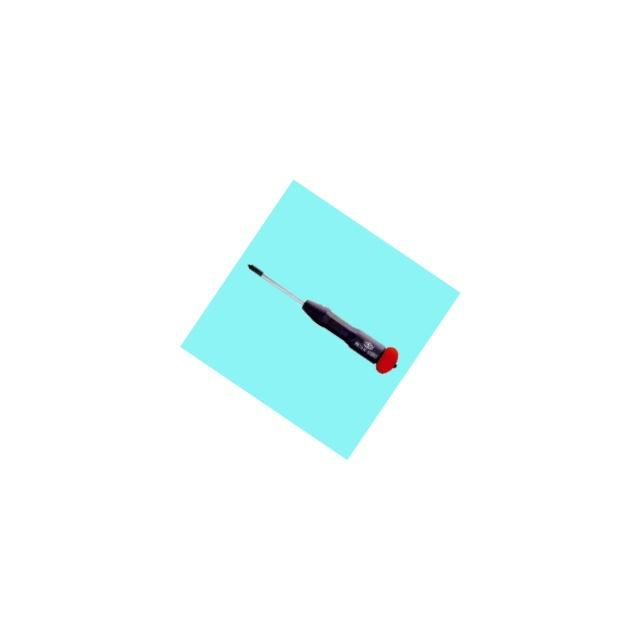screwdriver: (234, 249, 410, 385)
